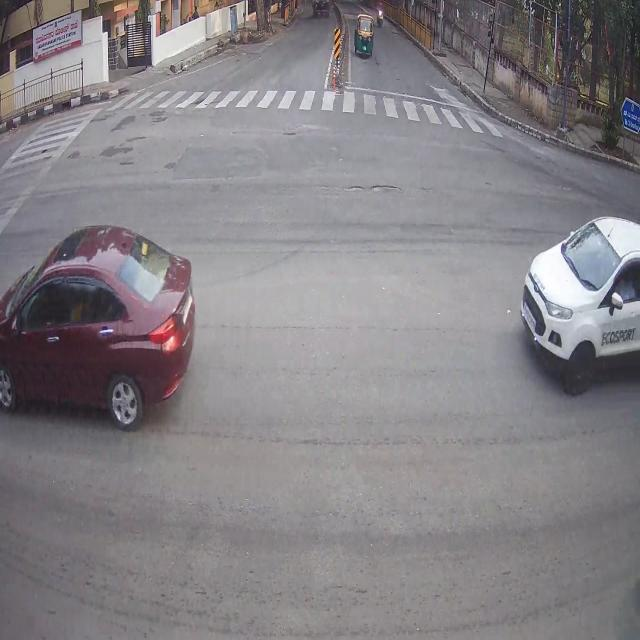Car: (0, 268, 197, 418), (537, 233, 640, 370)
Three-wheeler: (351, 9, 382, 68)
